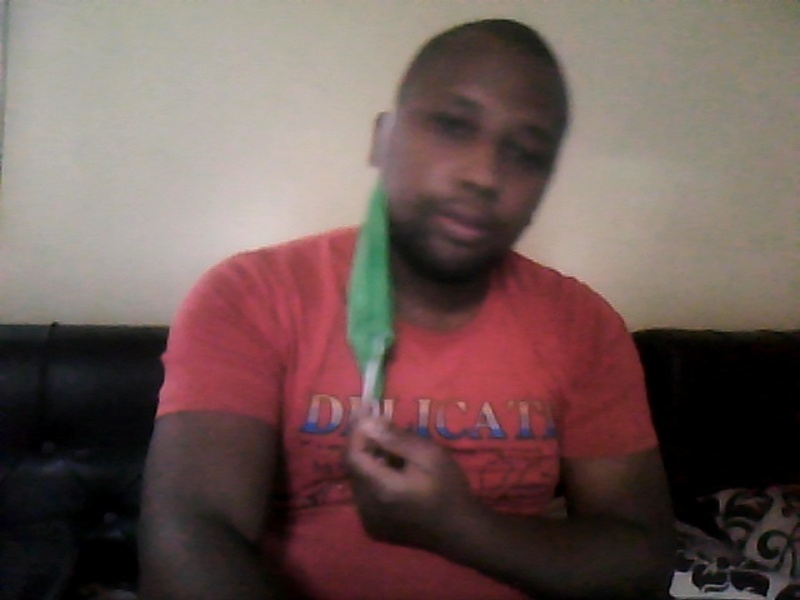TsisyArotava: (386, 20, 561, 288)
